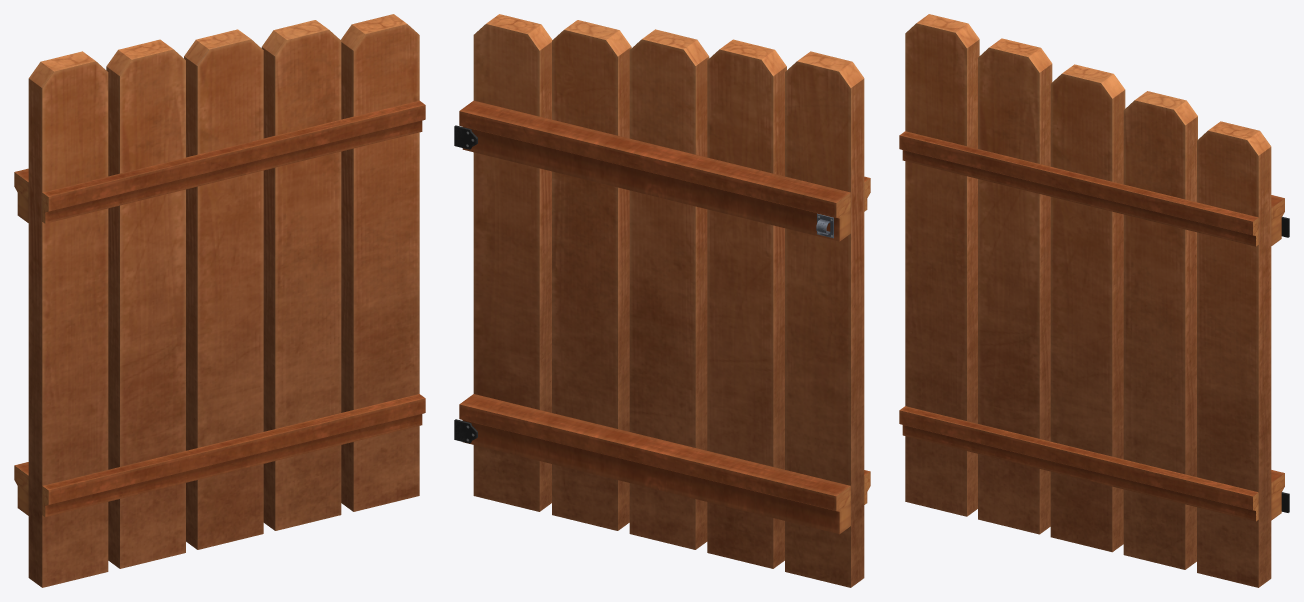
File: Brown Gate Right.gltf
3 views of the same model, side by side, from view 1: azimuth 30°, elevation 25°; view 2: azimuth 150°, elevation 25°; view 3: azimuth 330°, elevation 25° (orthographic). The views are drawn at different scales.
Visible parts, largest first — view 1: Fence1_Gate_Left_Planks_MAT_0.001, Fence1_Gate_Left_Frames_MAT_0.001; view 2: Fence1_Gate_Left_Planks_MAT_0.001, Fence1_Gate_Left_Frames_MAT_0.001; view 3: Fence1_Gate_Left_Planks_MAT_0.001, Fence1_Gate_Left_Frames_MAT_0.001.
Part boxes in pixels (x1,y1,x2,y2): Fence1_Gate_Left_Planks_MAT_0.001: (28,14,419,587); Fence1_Gate_Left_Frames_MAT_0.001: (14,100,425,516); Fence1_Gate_Left_Planks_MAT_0.001: (454,14,864,587); Fence1_Gate_Left_Frames_MAT_0.001: (459,100,870,534); Fence1_Gate_Left_Planks_MAT_0.001: (905,14,1289,587); Fence1_Gate_Left_Frames_MAT_0.001: (899,131,1284,521).
Bounding box in the file's own units: 0.8639 × 1.1 × 0.138.
